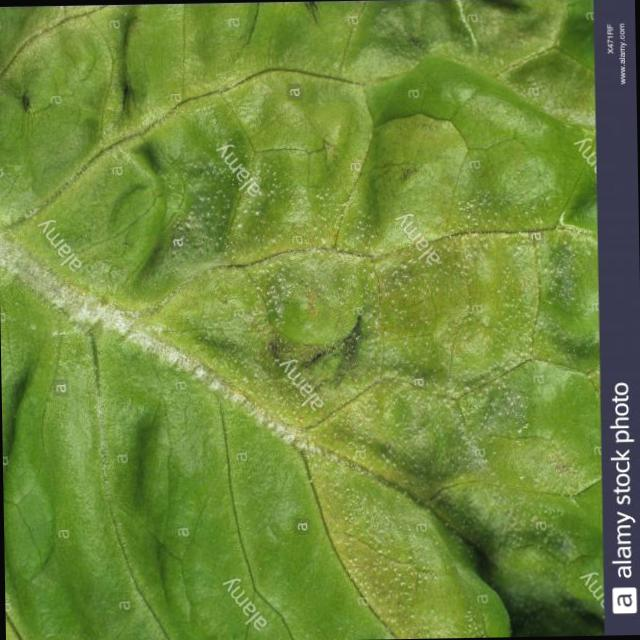Powdery_mildew_on_lettuce: (10, 203, 325, 478)
